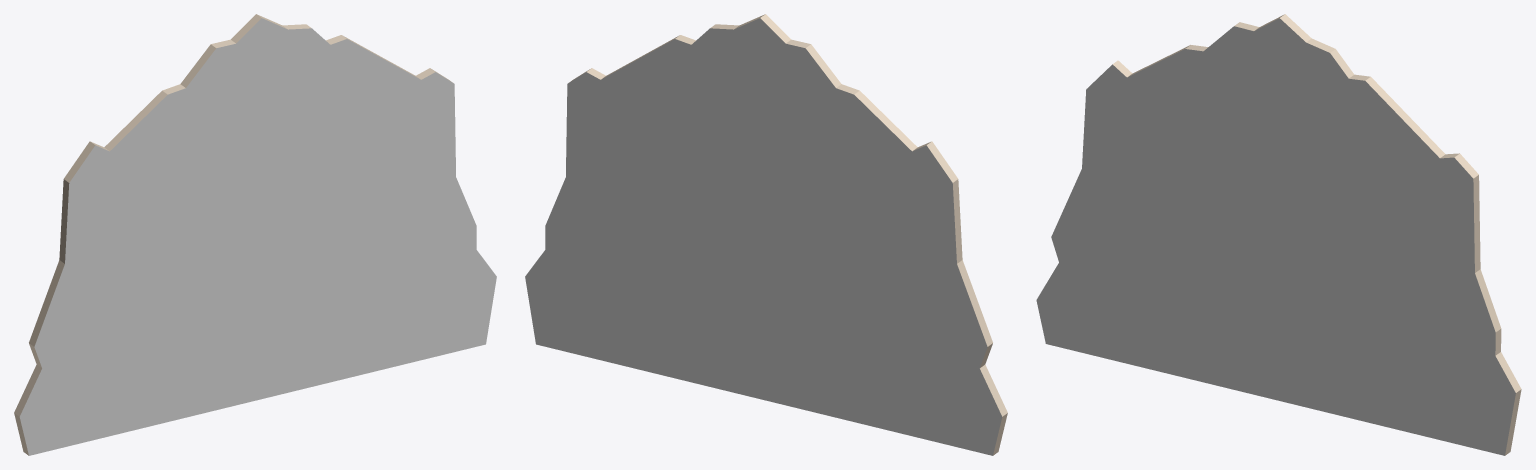
Rendered from monster2.fbx.
The picture shows the model from 3 angles, left to right: view 1: azimuth 30°, elevation 25°; view 2: azimuth 150°, elevation 25°; view 3: azimuth 330°, elevation 25°; orthographic projection.
Visible parts, largest first — view 1: Monster2; view 2: Monster2; view 3: Monster2.
Part boxes in pixels (bbox=[...]): Monster2: bbox=[14, 14, 496, 455]; Monster2: bbox=[525, 14, 1007, 455]; Monster2: bbox=[1036, 14, 1521, 455].
Size of the model in its own units: 105 by 80.22 by 2.14.
